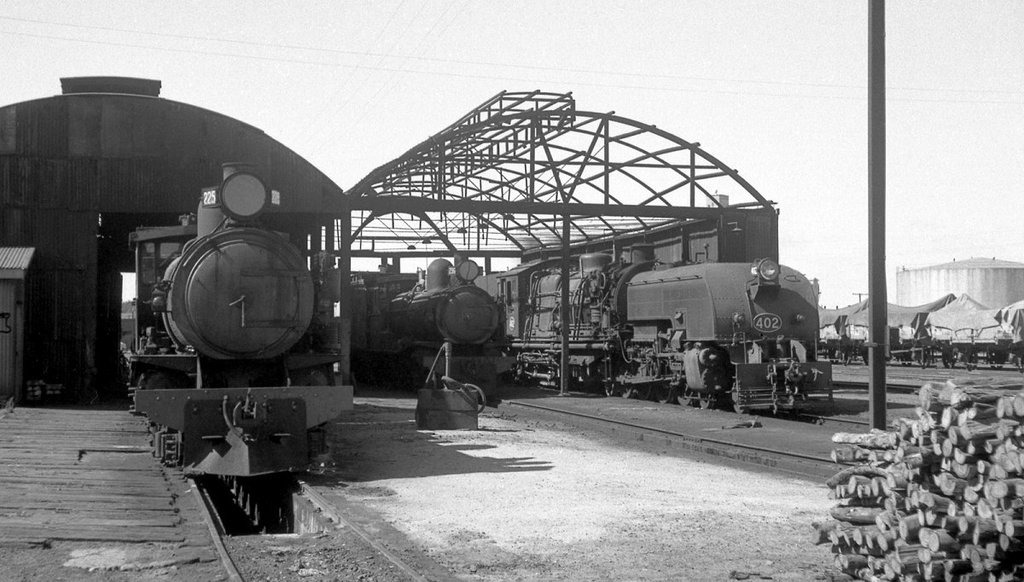train: (128, 151, 354, 478)
